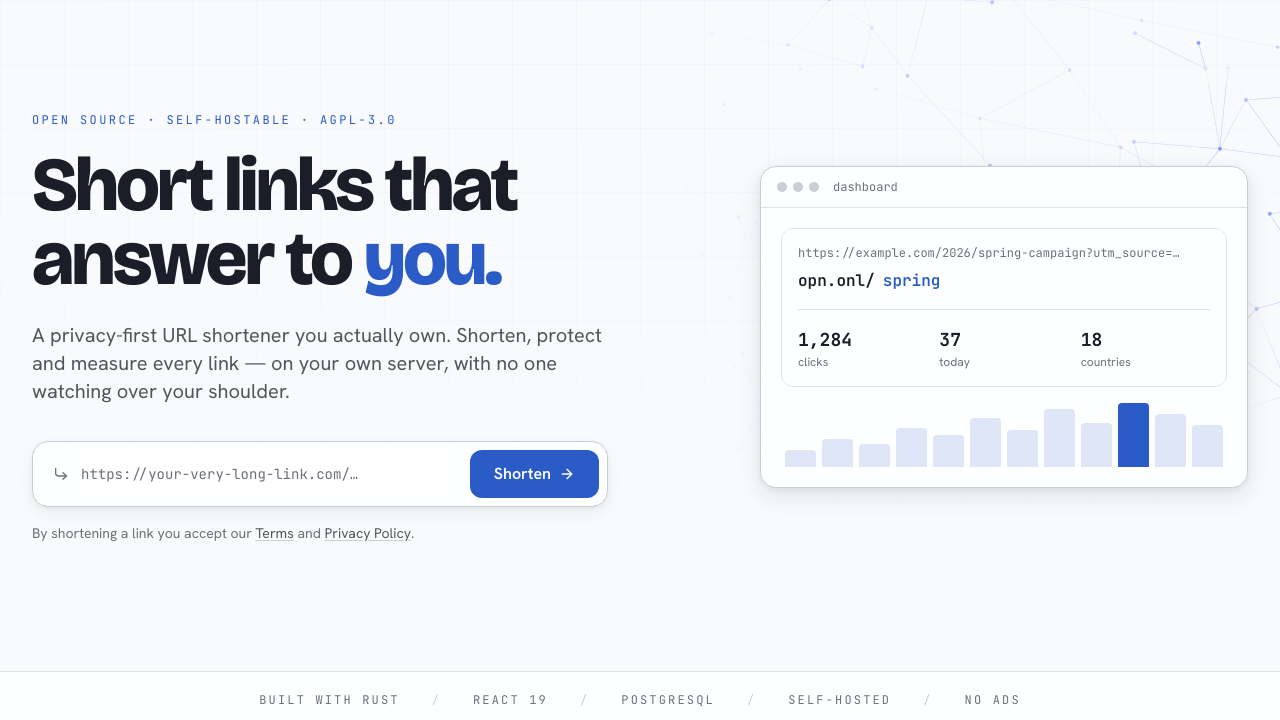
Home Page › does not stash the URL when the request fails for another reason
Type "https://example.com/test" into the field with placeholder "https://your-very-long-link.com/…" at (265, 474), box [81,454,450,494]
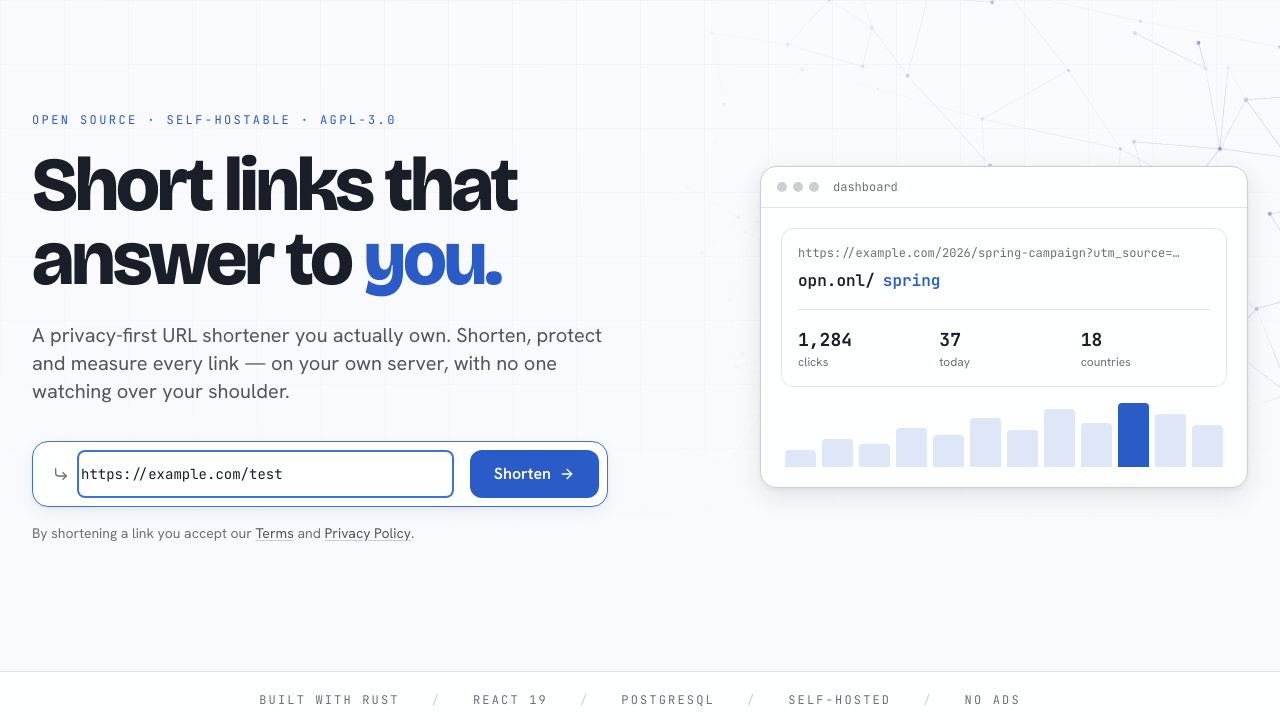
Click the button "Shorten" at (534, 474), box [470,450,599,498]
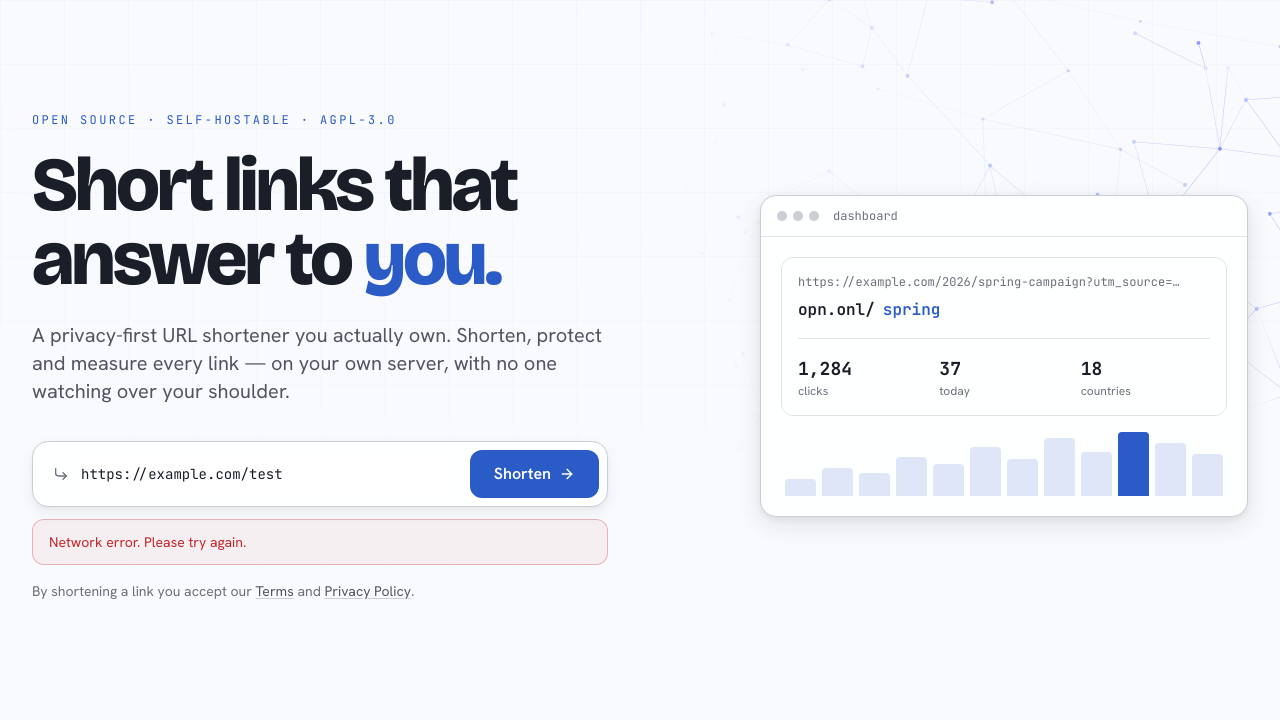
Expected: the text "Network error. Please try again." is shown, [32,519,608,565]
